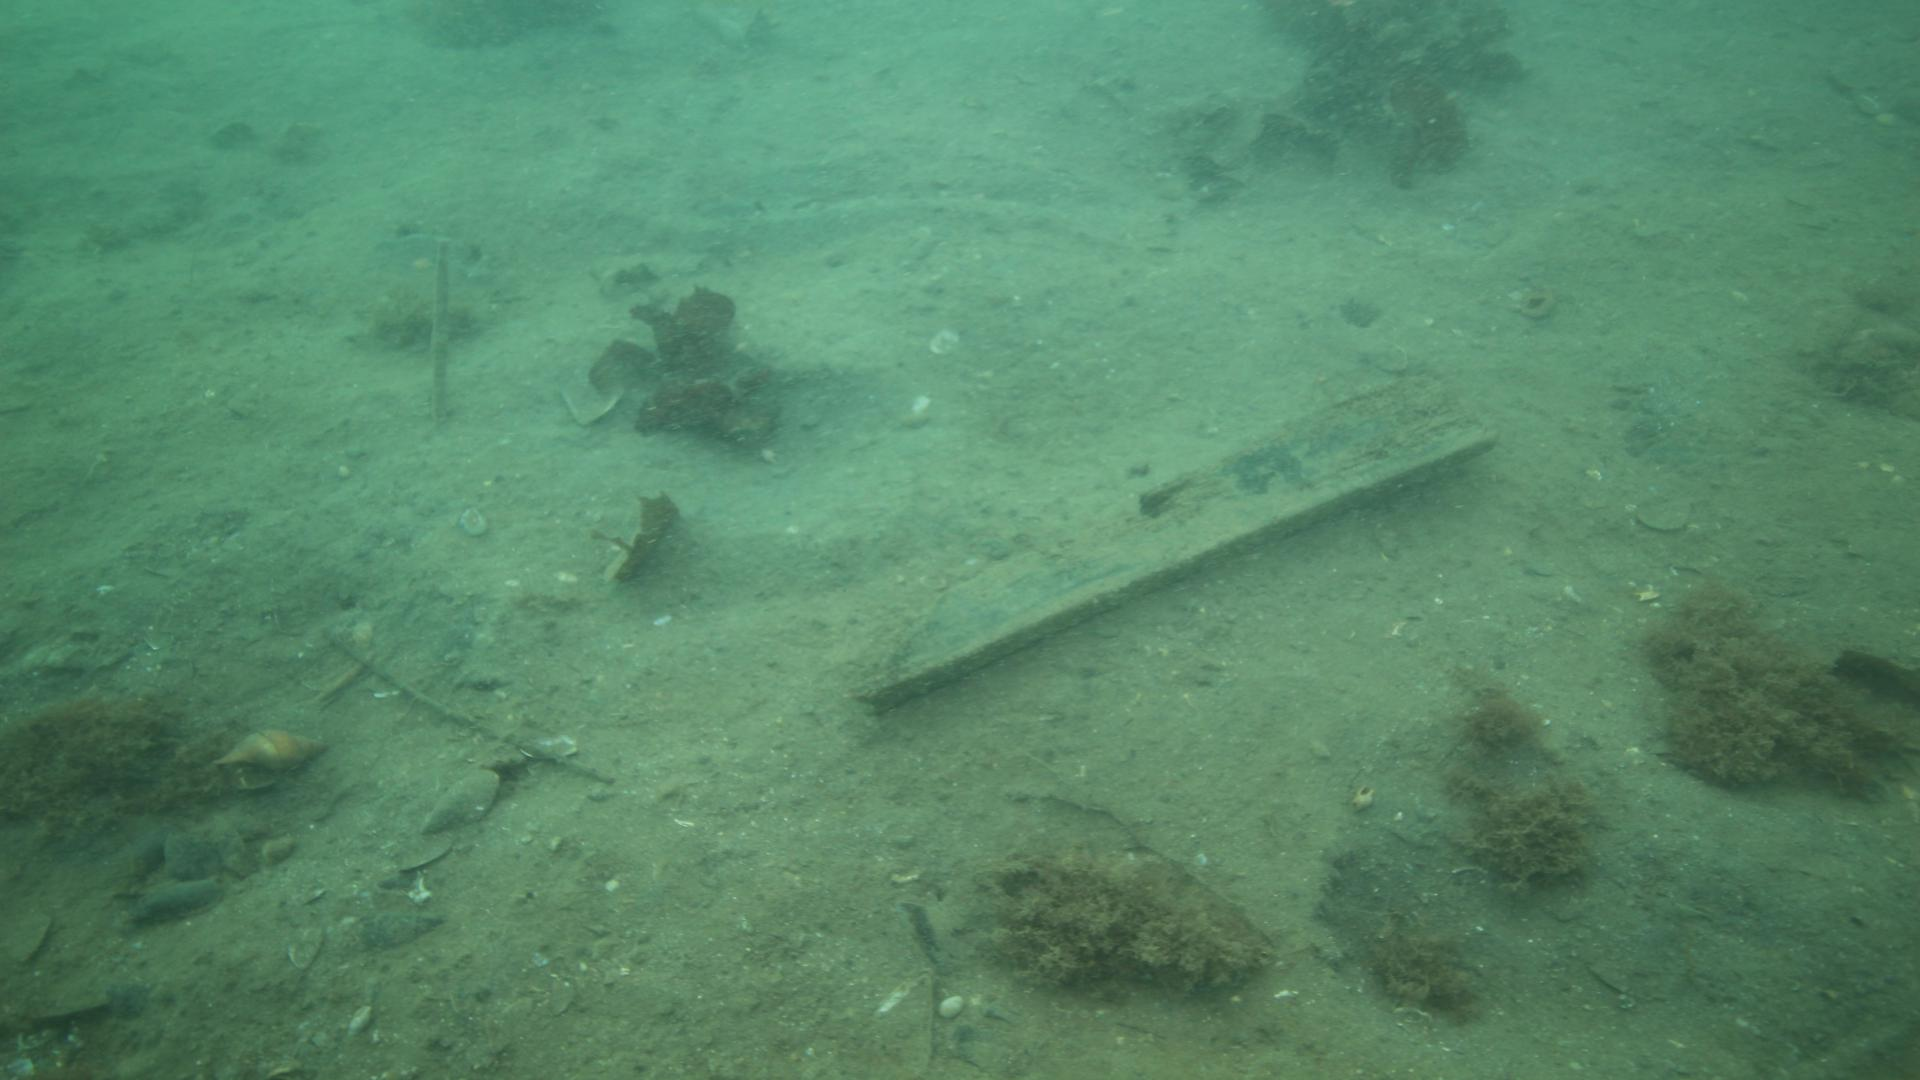wood: (847, 371, 1499, 704)
